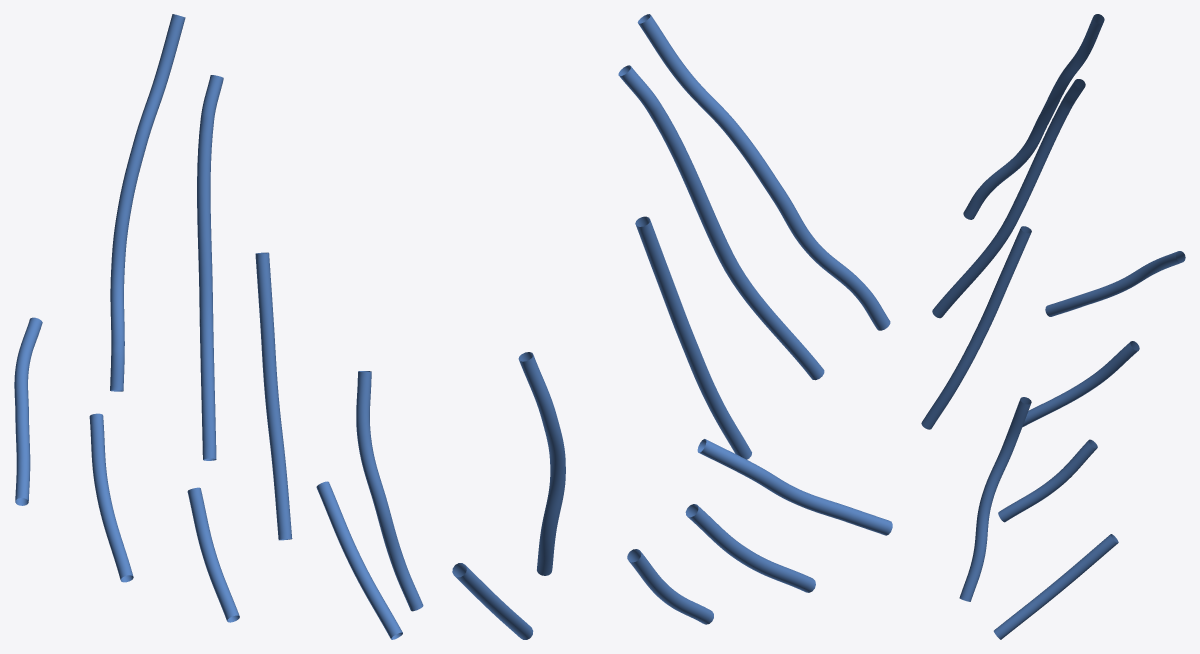
3 views of the same model, side by side, from view 1: azimuth 30°, elevation 25°; view 2: azimuth 150°, elevation 25°; view 3: azimuth 270°, elevation 25° (orthographic). The views are drawn at different scales.
Visible parts, largest first — view 1: 右侧跖骨头间静脉; view 2: 右侧跖骨头间静脉; view 3: 右侧跖骨头间静脉.
Boxes of the visible parts, <box> form: 右侧跖骨头间静脉: <box>14,14,423,639</box>; 右侧跖骨头间静脉: <box>452,14,892,639</box>; 右侧跖骨头间静脉: <box>921,14,1185,639</box>.
Size of the model in its own units: 0.0623 by 0.104 by 0.045.
